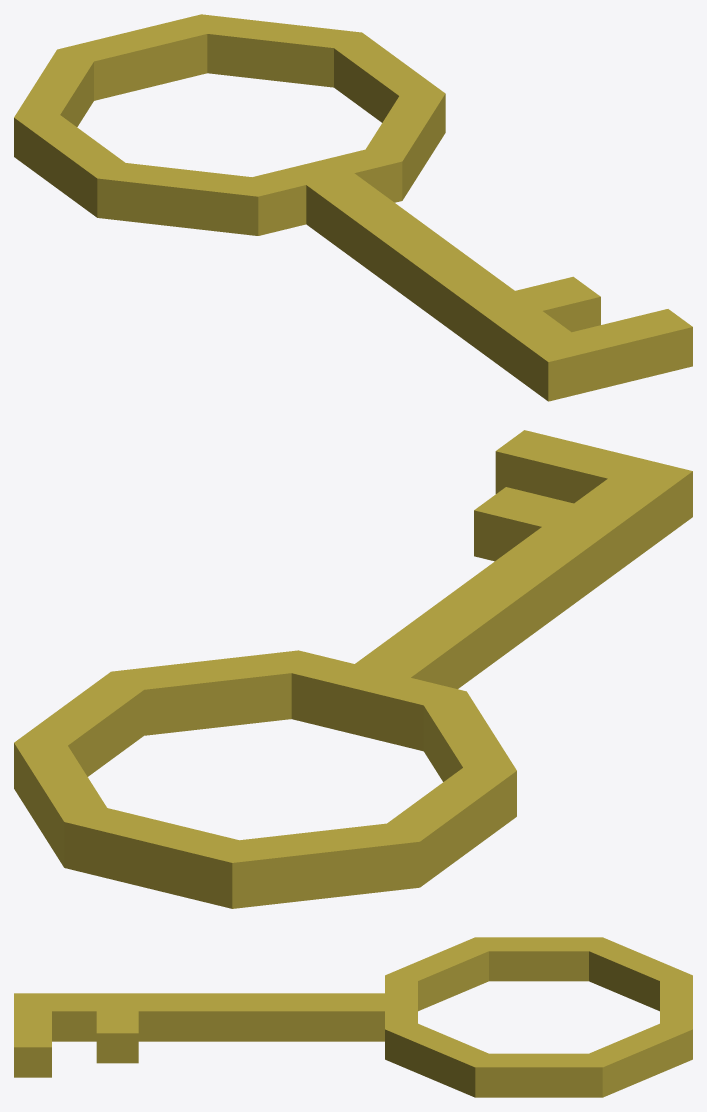
Rendered from Key.fbx.
3 views of the same model, one above another, from view 1: azimuth 30°, elevation 25°; view 2: azimuth 150°, elevation 25°; view 3: azimuth 270°, elevation 25° (orthographic). The views are drawn at different scales.
Visible parts, largest first — view 1: Circle; view 2: Circle; view 3: Circle.
Part boxes in pixels (x1,y1,x2,y2): Circle: (14,14,692,401); Circle: (14,430,692,908); Circle: (14,937,692,1097).
Size of the model in its own units: 20.97 by 2.27 by 46.23.
